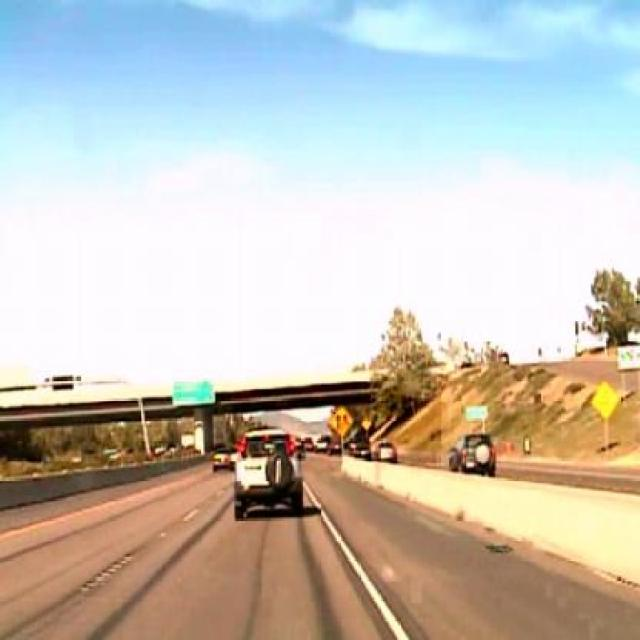addedLane: (328, 405, 354, 437)
